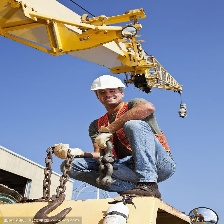helmet: (91, 74, 125, 91)
no-vest: (85, 103, 167, 160)
person: (55, 68, 179, 202)
